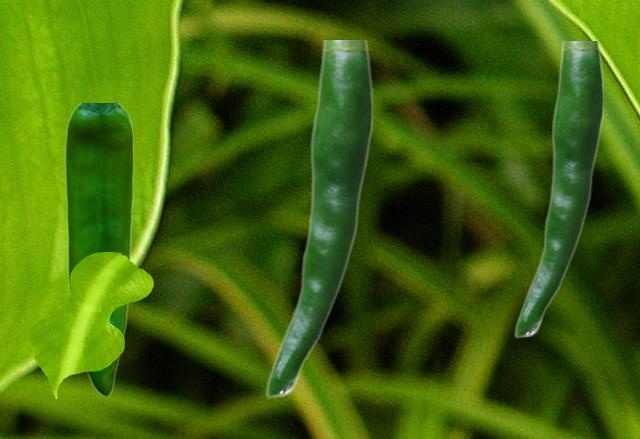green_chili: (264, 40, 371, 397), (513, 41, 602, 337), (64, 103, 133, 395)
